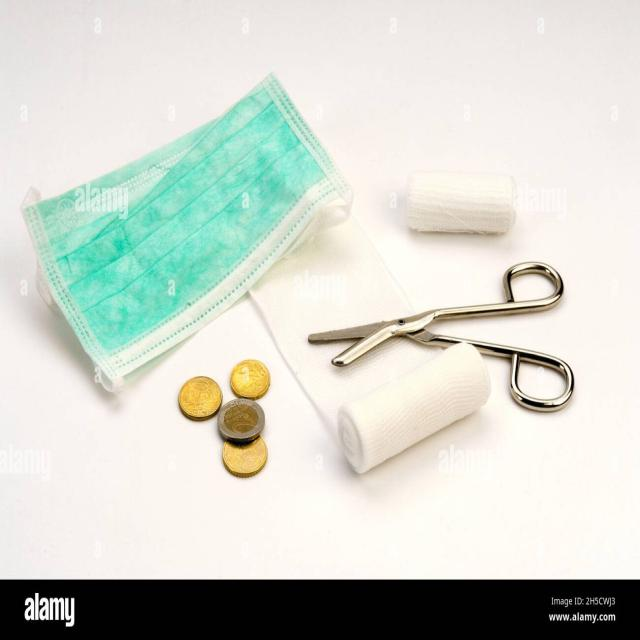B3: (303, 251, 582, 418), (312, 334, 502, 481), (387, 153, 545, 252)
